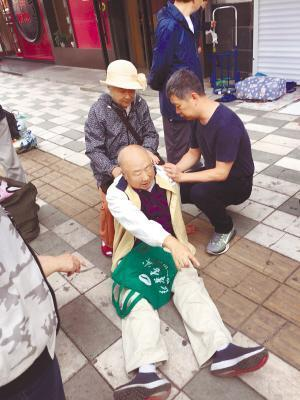Fall-Detected: (94, 128, 270, 400)
